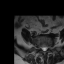CCS_normal: (43, 45, 45, 53)
LFS_normal: (47, 44, 49, 50)
LLS_normal: (45, 45, 47, 52)
RFS_normal: (39, 44, 41, 50)
RLS_normal: (41, 44, 43, 52)
